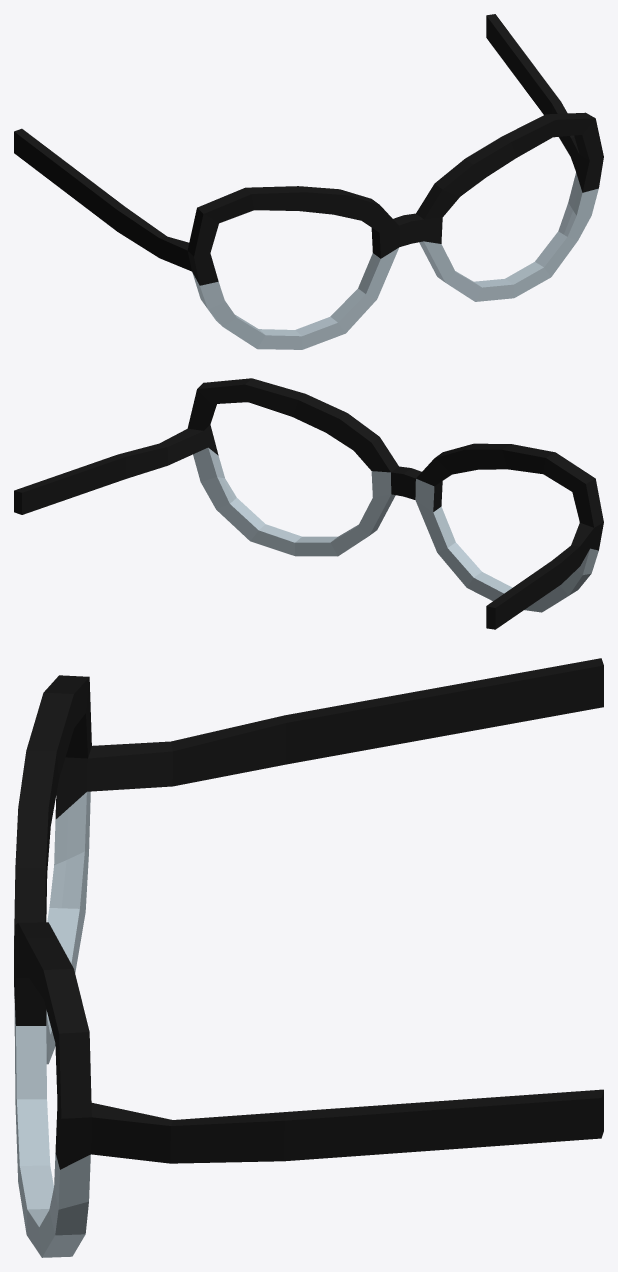
File: glassesRetro.fbx
3 renders of one model, top to bottom at view 1: azimuth 30°, elevation 25°; view 2: azimuth 150°, elevation 25°; view 3: azimuth 270°, elevation 25°, orthographic. The views are drawn at different scales.
Parts seen in each view (by area): view 1: glassesRetro; view 2: glassesRetro; view 3: glassesRetro.
Part boxes in pixels (x1,y1,x2,y2): glassesRetro: [14, 14, 603, 349]; glassesRetro: [14, 378, 603, 629]; glassesRetro: [14, 658, 603, 1257].
Size of the model in its own units: 84.02 by 27.32 by 47.62.
